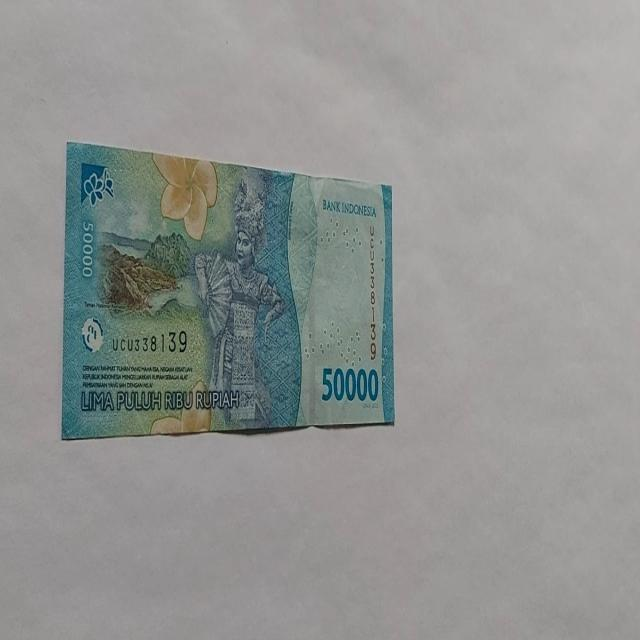lima puluh ribu rupiah: (61, 140, 395, 440)
